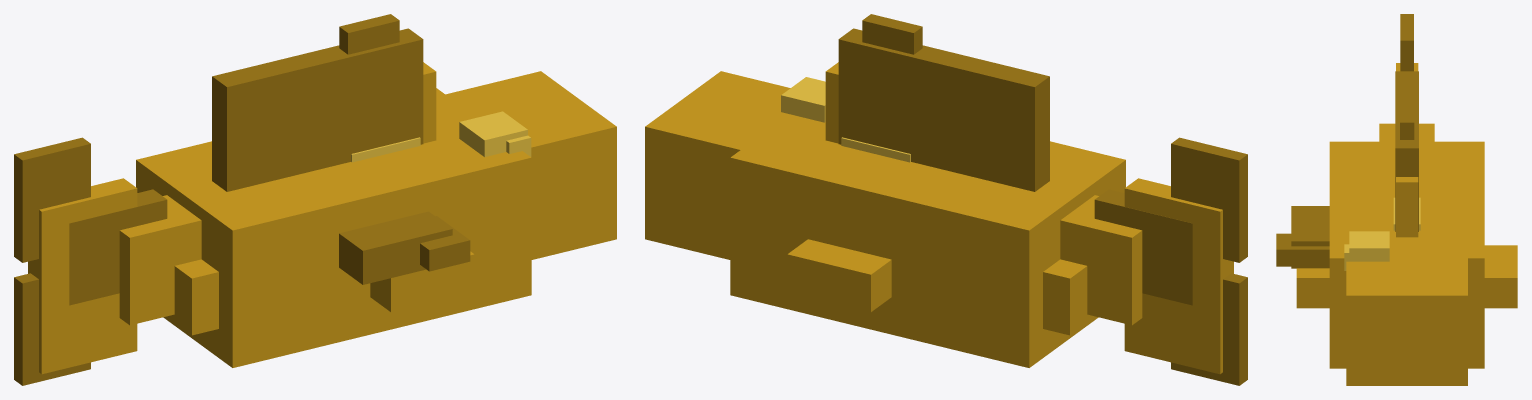
The model's file is fish_saffron_sprat.glb.
3 views of the same model, side by side, from view 1: azimuth 30°, elevation 25°; view 2: azimuth 150°, elevation 25°; view 3: azimuth 270°, elevation 25° (orthographic). The views are drawn at different scales.
Parts seen in each view (by area): view 1: FishArt_body, FishArt_dorsal, FishArt_tail, FishArt_pectoral, FishArt_eye, FishArt_specialty; view 2: FishArt_body, FishArt_dorsal, FishArt_tail, FishArt_eye, FishArt_specialty; view 3: FishArt_body, FishArt_pectoral, FishArt_dorsal, FishArt_eye, FishArt_tail.
Part boxes in pixels (left/top/right/bottom): FishArt_body: left=28, top=62, right=616, bottom=374; FishArt_dorsal: left=212, top=14, right=423, bottom=191; FishArt_tail: left=14, top=137, right=167, bottom=385; FishArt_pectoral: left=339, top=211, right=470, bottom=284; FishArt_eye: left=459, top=111, right=531, bottom=156; FishArt_specialty: left=351, top=137, right=420, bottom=162; FishArt_body: left=645, top=62, right=1233, bottom=374; FishArt_dorsal: left=838, top=14, right=1049, bottom=191; FishArt_tail: left=1094, top=137, right=1247, bottom=385; FishArt_eye: left=781, top=77, right=825, bottom=122; FishArt_specialty: left=841, top=137, right=910, bottom=162; FishArt_body: left=1296, top=63, right=1517, bottom=385; FishArt_pectoral: left=1276, top=206, right=1329, bottom=268; FishArt_dorsal: left=1395, top=71, right=1418, bottom=231; FishArt_eye: left=1344, top=231, right=1389, bottom=270; FishArt_tail: left=1400, top=14, right=1413, bottom=71.
Bounding box in the file's own units: 0.3091 × 0.1442 × 0.1439.
